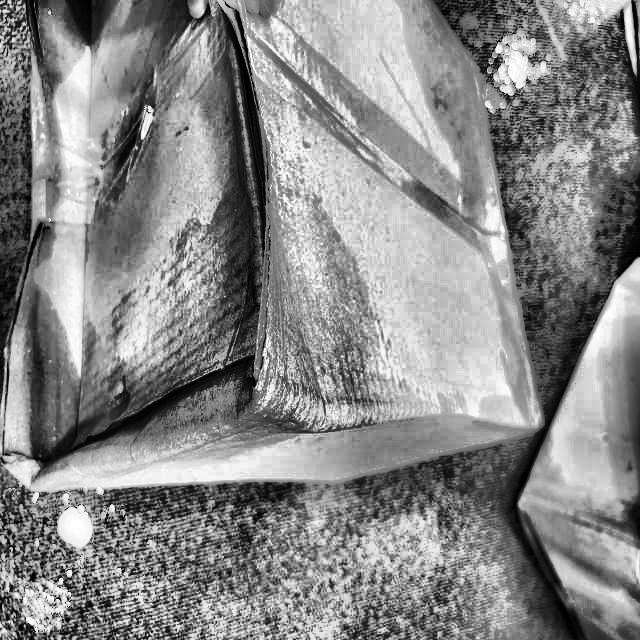box: (0, 0, 548, 526)
wet: (150, 150, 384, 448), (0, 286, 81, 474)
